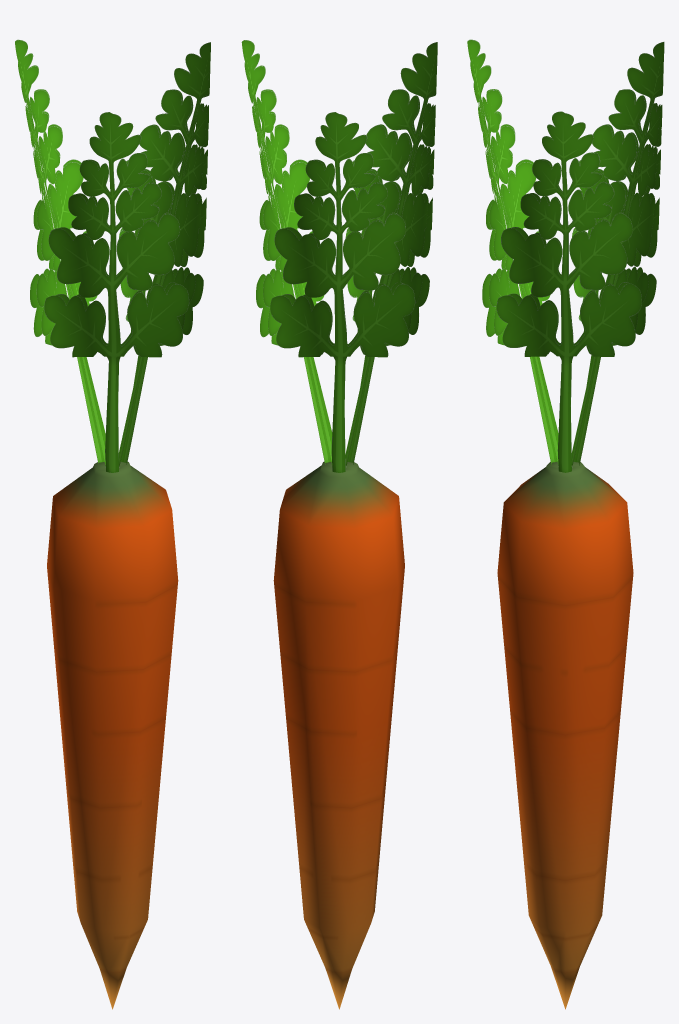
The model's file is Carrot.FBX.
3 renders of one model, left to right at view 1: azimuth 30°, elevation 25°; view 2: azimuth 150°, elevation 25°; view 3: azimuth 270°, elevation 25°, orthographic.
Visible parts, largest first — view 1: Carrot; view 2: Carrot; view 3: Carrot.
Boxes of the visible parts, x1,y1,x2,y2 form: Carrot: [15, 39, 210, 1009]; Carrot: [241, 40, 437, 1009]; Carrot: [467, 39, 664, 1009].
Size of the model in its own units: 5.82 by 26.82 by 5.08.
Materials: 1 (1 with a texture image).
